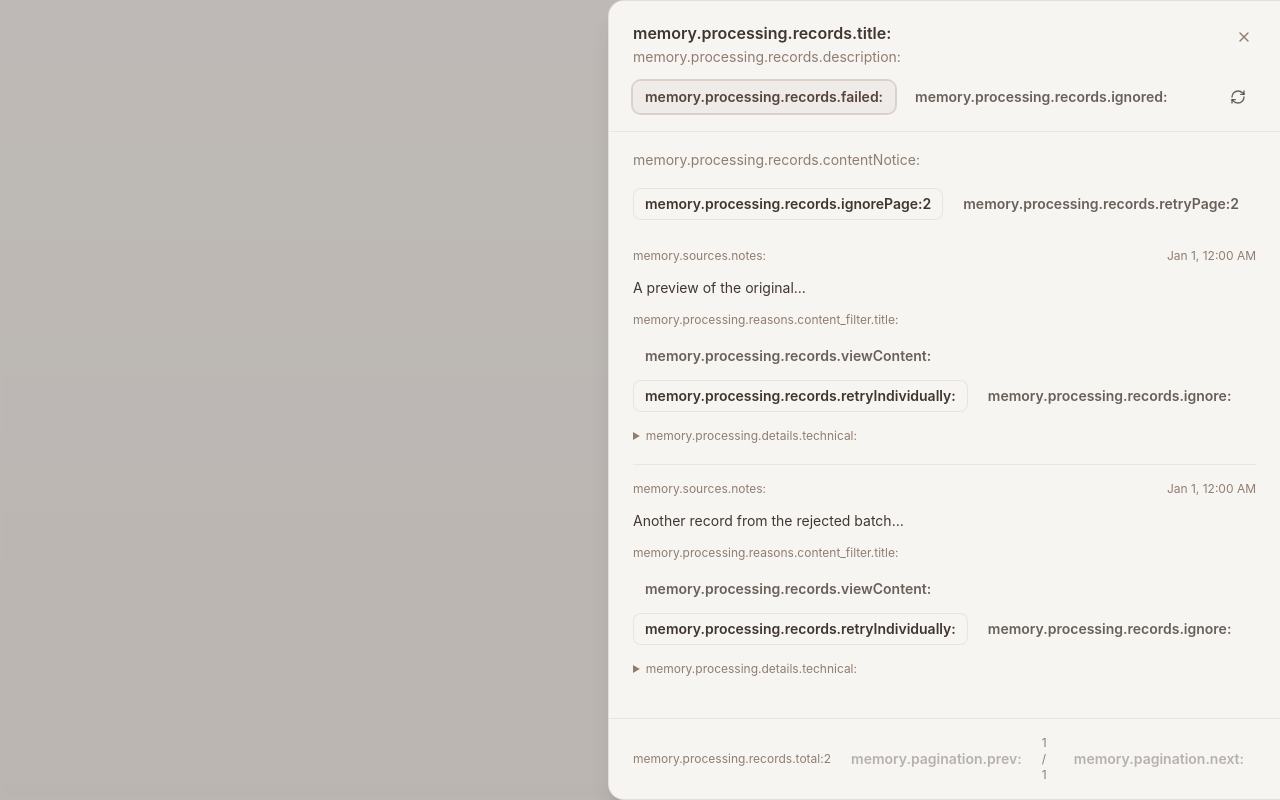
Test: MemoryFailureRecords › keeps the remaining batch member retryable after ignoring a suspect record
Expected: the text "A preview of the original…" is shown, 633,279 -> 806,296
Click the button "memory.processing.records.ignore:" below "A preview of the original" at [1110, 396], box 976,380 -> 1243,412
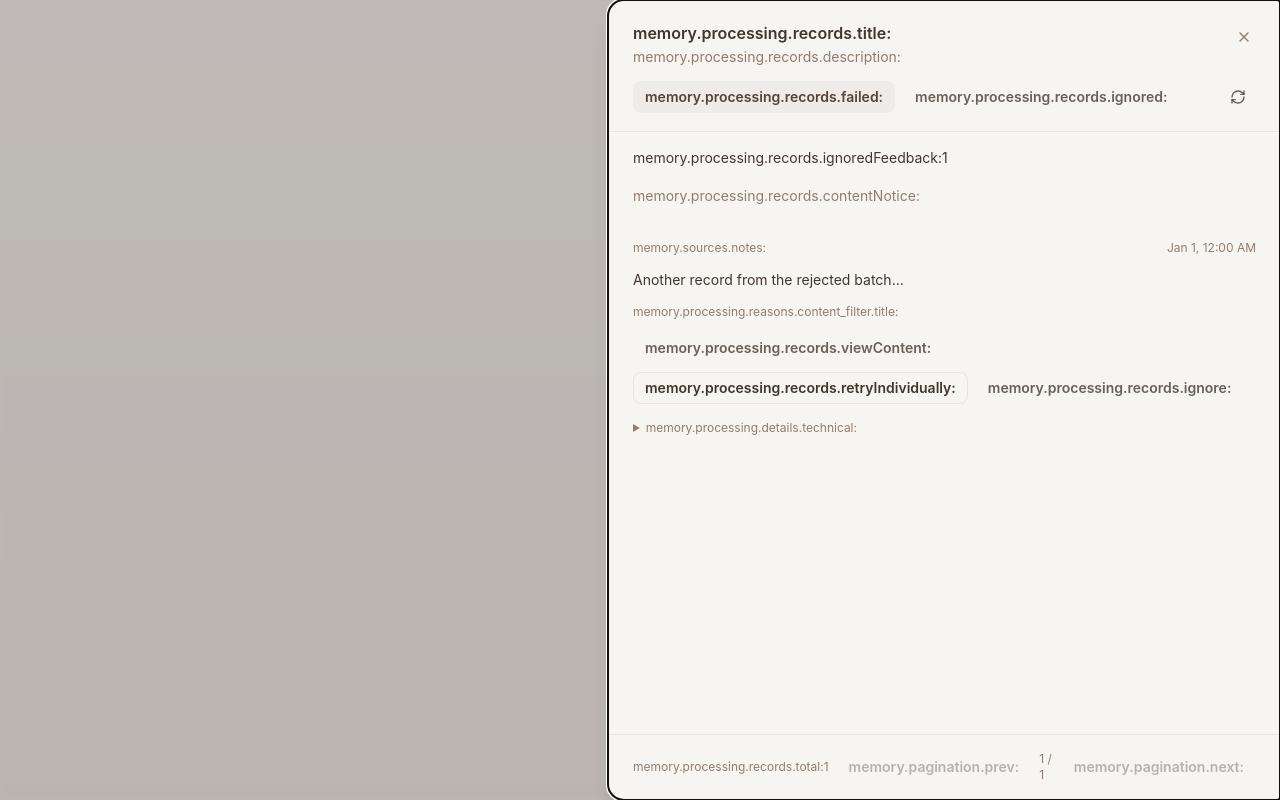
Expected: the text "memory.processing.records.ignoredFeedback:1" is shown, 633,149 -> 948,166
Click the button "memory.processing.records.retryIndividually:" at [800, 388], box 633,372 -> 968,404
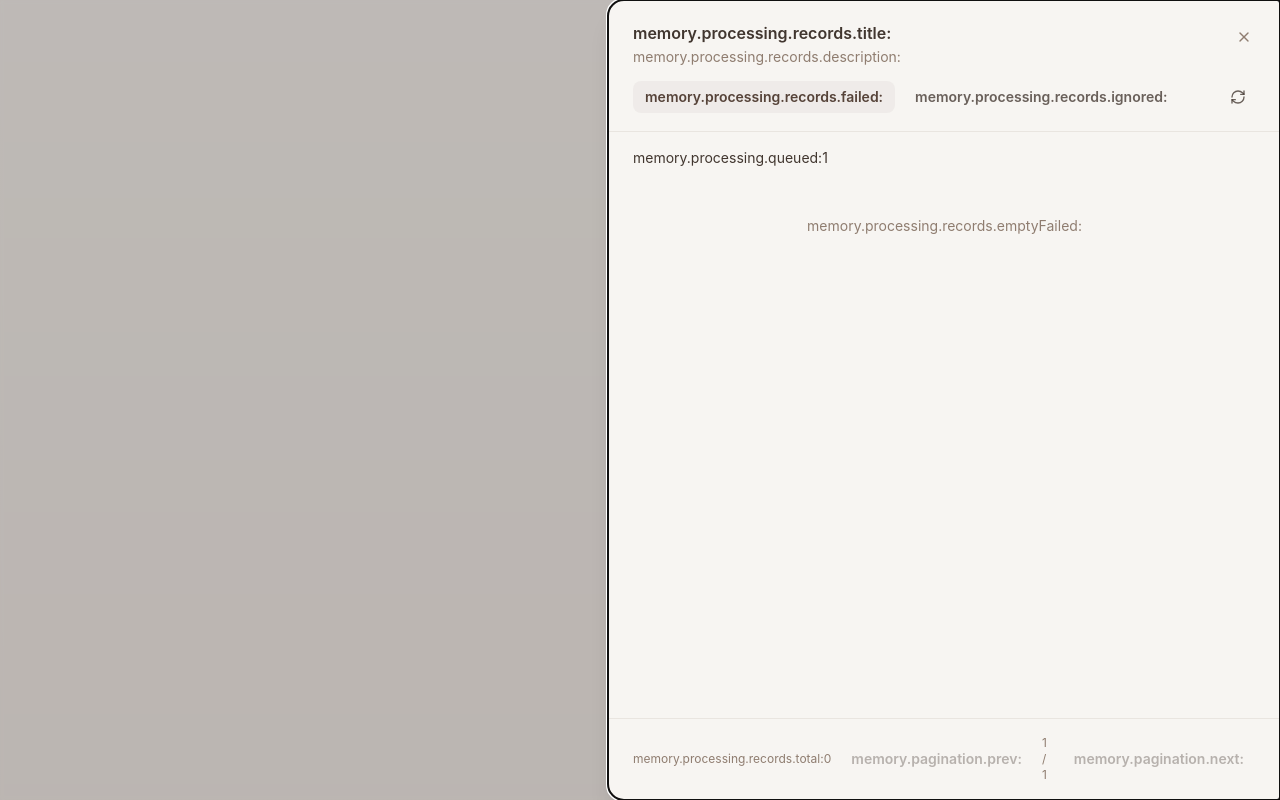
Expected: the text "memory.processing.queued:1" is shown, 633,149 -> 828,166
